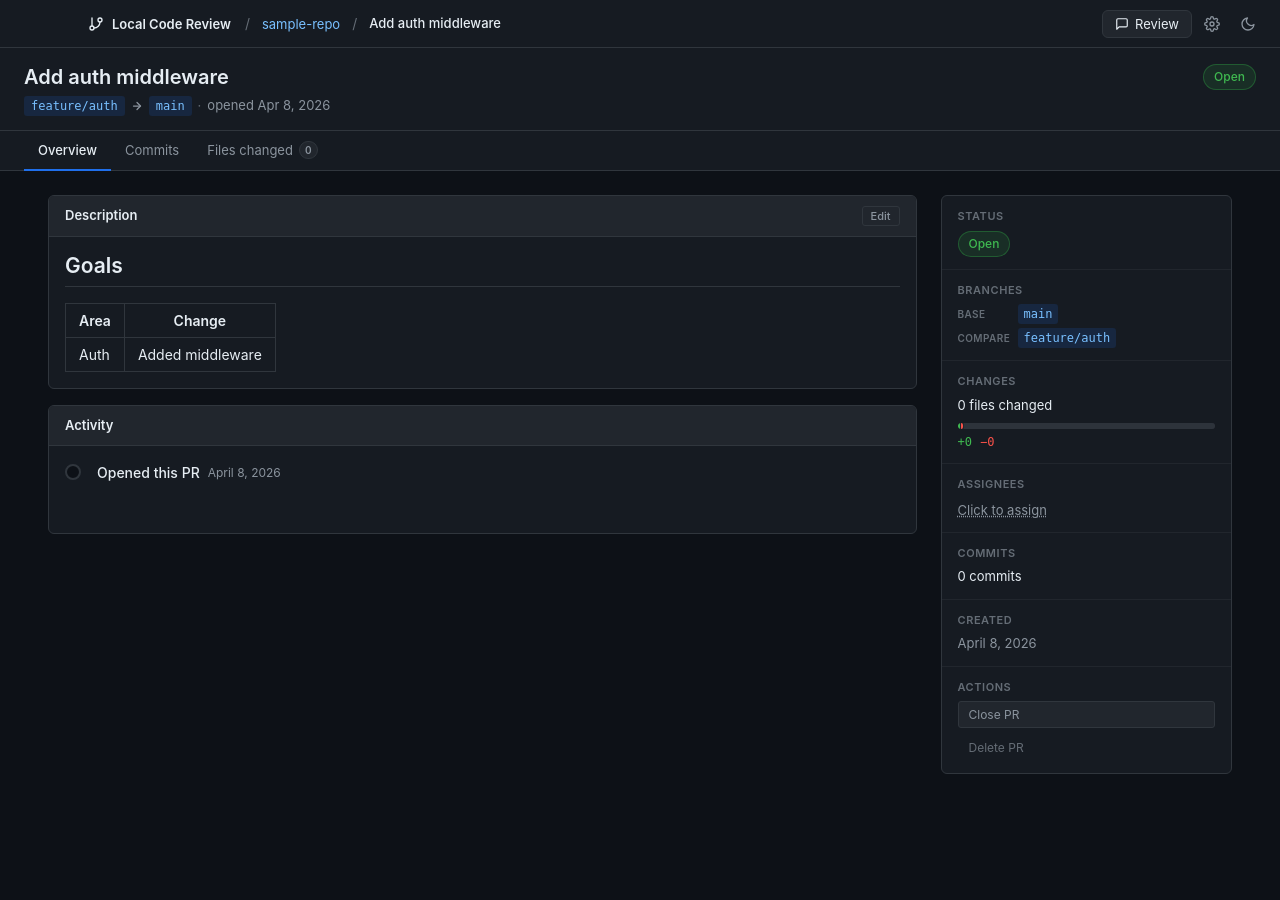
PR description › shows the markdown source, with its syntax, while editing
The image size is (1280, 900).
Step 1. Click the button "Edit" → (880, 216), box x1=862 y1=206 x2=900 y2=226
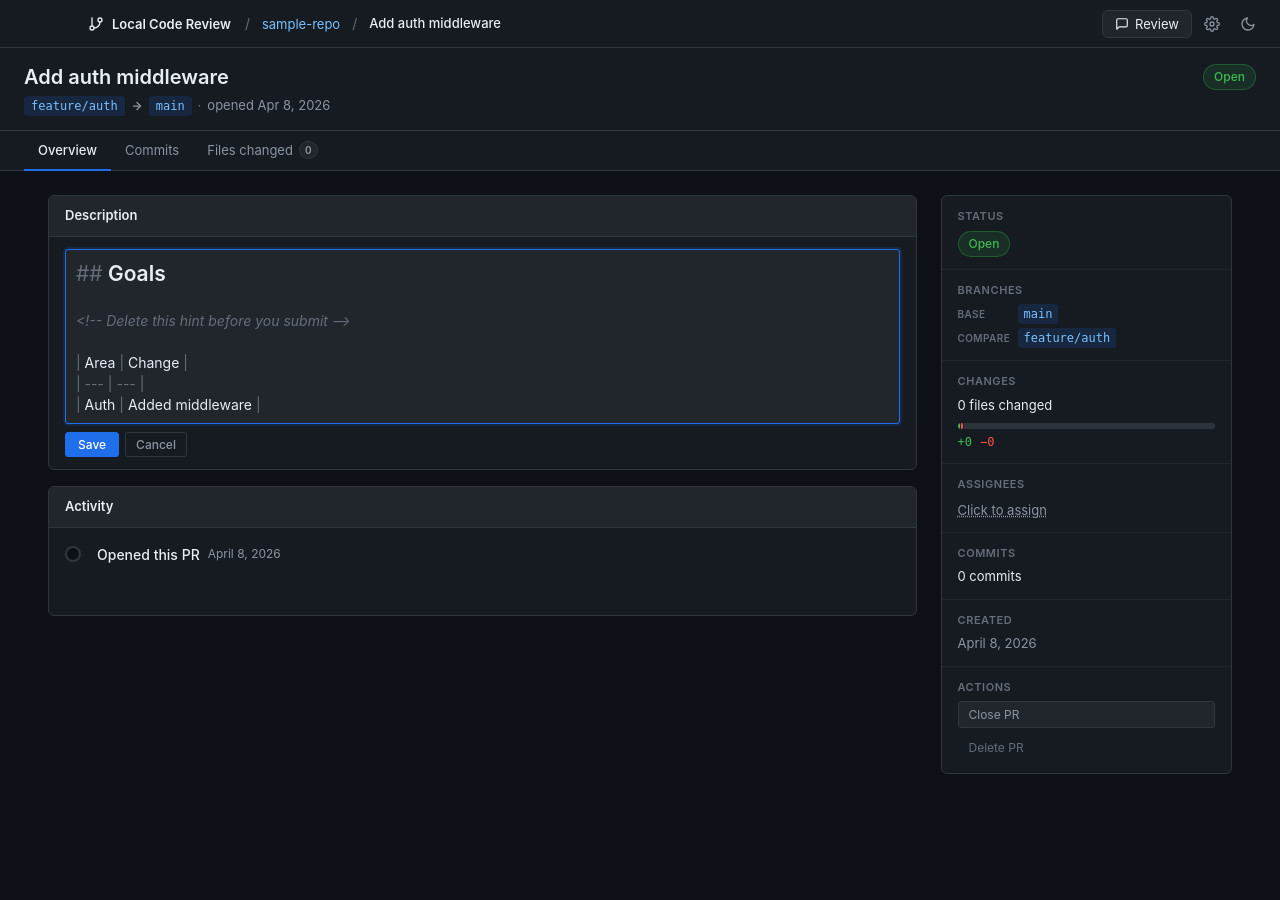
Expected: the field named "Description" shows "<!-- Delete this hint before you submit -->", x1=76 y1=260 x2=351 y2=413
Expected: the table is gone
